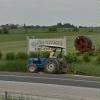Tractor: (22, 36, 74, 83)
